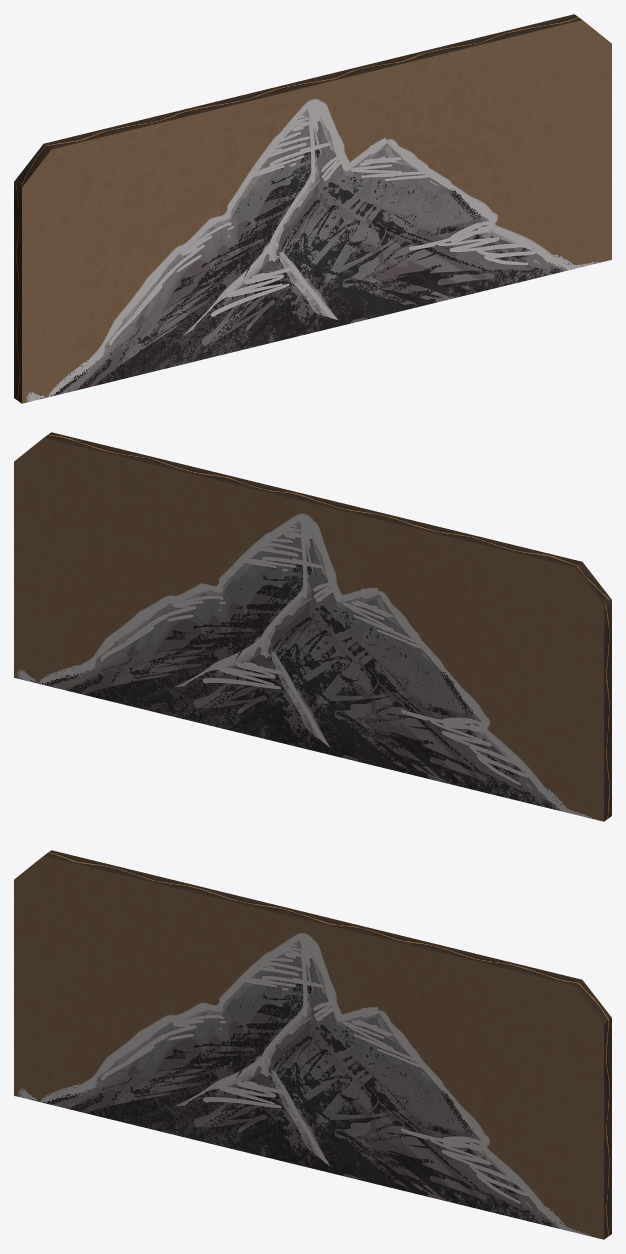
The model's file is MountainBox.fbx.
The picture shows the model from 3 angles, top to bottom: view 1: azimuth 30°, elevation 25°; view 2: azimuth 150°, elevation 25°; view 3: azimuth 330°, elevation 25°; orthographic projection.
Parts seen in each view (by area): view 1: Cloud2; view 2: Cloud2; view 3: Cloud2.
Boxes of the visible parts, x1,y1,x2,y2 form: Cloud2: (14, 14, 611, 403); Cloud2: (14, 432, 611, 821); Cloud2: (14, 850, 611, 1239).
Bounding box in the file's own units: 5 × 2 × 0.116.
